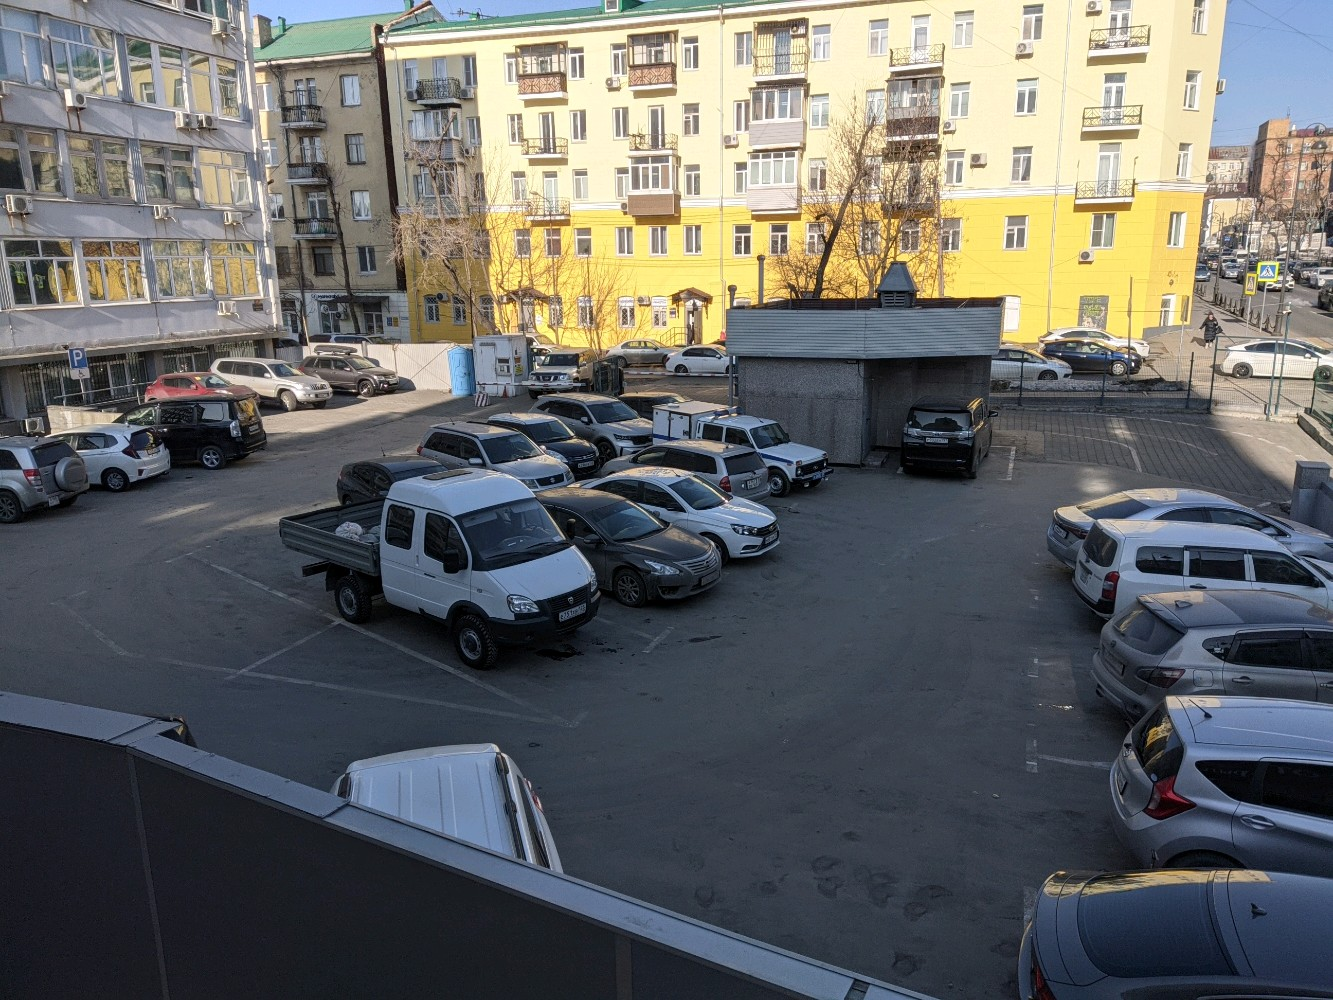Car: (279, 468, 600, 669), (1017, 869, 1333, 1000), (1110, 696, 1333, 878), (1091, 591, 1333, 718), (332, 744, 565, 874), (1072, 521, 1333, 617), (1046, 487, 1333, 567), (533, 487, 722, 607), (565, 466, 782, 567), (652, 401, 830, 496), (111, 394, 267, 470), (416, 420, 577, 493), (601, 441, 770, 501), (527, 392, 654, 458), (53, 424, 171, 491), (900, 398, 997, 479), (0, 437, 90, 523), (486, 412, 601, 473), (207, 358, 332, 411), (337, 455, 447, 504), (297, 343, 398, 397), (1219, 337, 1333, 382), (145, 373, 261, 407), (1039, 338, 1144, 375), (1036, 328, 1150, 359), (526, 349, 593, 396), (991, 343, 1072, 380), (605, 338, 682, 368), (617, 392, 688, 421), (665, 343, 729, 374), (1258, 267, 1294, 292), (529, 345, 561, 368), (328, 334, 392, 345), (1293, 259, 1320, 284), (503, 333, 555, 346), (1315, 280, 1333, 313), (1309, 267, 1333, 289), (1236, 265, 1257, 284), (1230, 249, 1251, 265), (1194, 263, 1211, 282), (1221, 263, 1241, 278), (1199, 254, 1217, 270), (1221, 256, 1241, 269)
